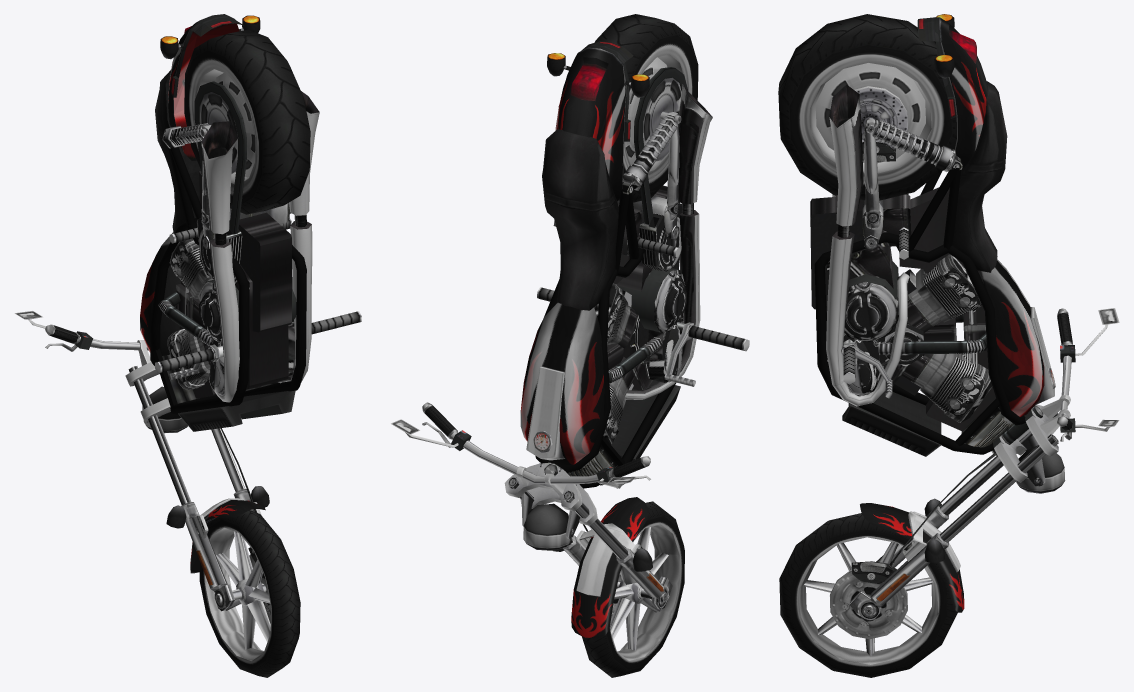
The model's file is Harley_alone_static-FBX.FBX.
The picture shows the model from 3 angles, left to right: view 1: azimuth 30°, elevation 25°; view 2: azimuth 150°, elevation 25°; view 3: azimuth 270°, elevation 25°; orthographic projection. The views are drawn at different scales.
Parts seen in each view (by area): view 1: hrl_body, hrl-rear-whell, hrl-front-whell, hrl-wheel; view 2: hrl_body, hrl-wheel, hrl-front-whell, hrl-rear-whell; view 3: hrl_body, hrl-rear-whell, hrl-wheel, hrl-front-whell.
Boxes of the visible parts, x1=… form: hrl_body: x1=140, y1=14, x2=361, y2=431; hrl-rear-whell: x1=184, y1=29, x2=310, y2=214; hrl-front-whell: x1=199, y1=510, x2=300, y2=677; hrl-wheel: x1=14, y1=311, x2=269, y2=611; hrl_body: x1=520, y1=41, x2=749, y2=488; hrl-wheel: x1=391, y1=402, x2=672, y2=638; hrl-front-whell: x1=582, y1=501, x2=684, y2=677; hrl-rear-whell: x1=594, y1=14, x2=698, y2=202; hrl_body: x1=810, y1=14, x2=1055, y2=456; hrl-rear-whell: x1=778, y1=14, x2=956, y2=200; hrl-wheel: x1=850, y1=308, x2=1119, y2=621; hrl-front-whell: x1=779, y1=513, x2=957, y2=677.
Bounding box in the file's own units: 1.03 × 1.26 × 2.67.
